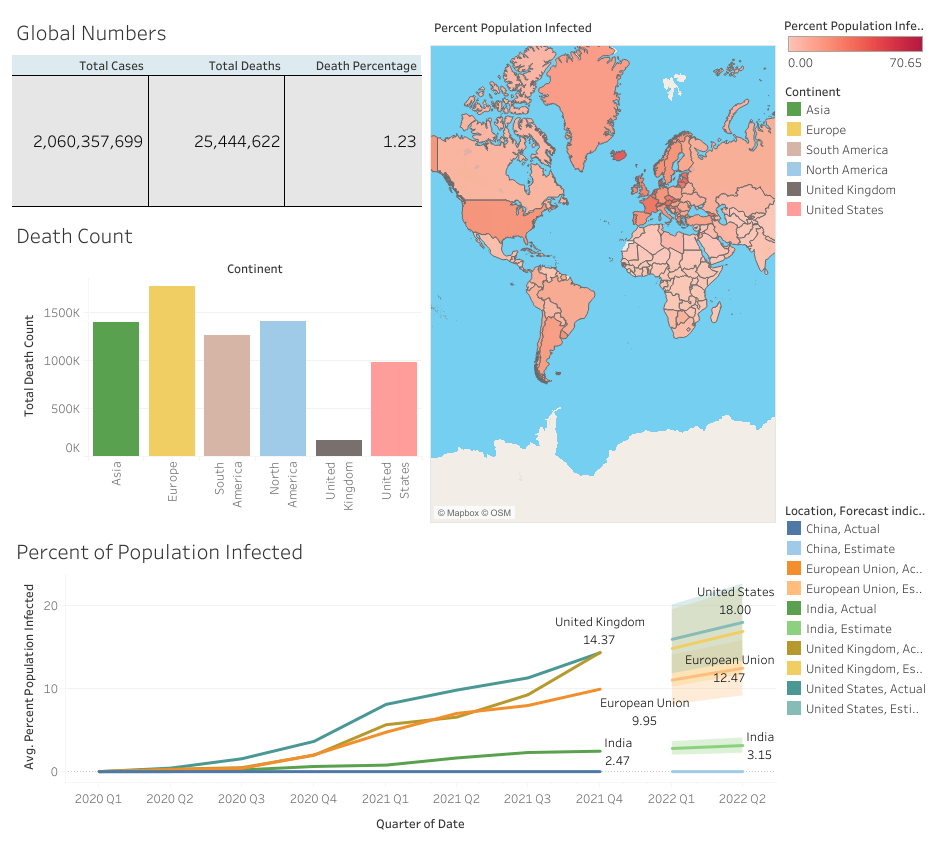

What the dashboard file says about the page in this screenshot:
{"tool":"tableau","page":{"name":"Dashboard 1","canvas":[1000,1000],"units":"permille","ordinal":0},"visuals":[{"type":"worksheet","title":"Global Numbers","mark":"Automatic","box":[7.5,13.7,456.5,236.3]},{"type":"worksheet","title":"Percent Population Infected","mark":"Multipolygon","box":[464,13.7,387.3,604.5]},{"type":"legend","title":"Percent Population Infected","param":"[federated.0fcbsb11o1xzr61a9d8e30gn0m4j].[sum:PercentPopulationInfected:qk]","box":[851.3,13.7,141.2,111.3]},{"type":"legend","title":"Death Count","param":"[federated.0eqgit11qa5z5s1g0ej0e15yebu2].[none:location:nk]","box":[851.3,125,141.2,250]},{"type":"worksheet","title":"Death Count","mark":"Bar","rows":["TotalDeathCount"],"cols":["location"],"box":[7.5,250,456.5,368.2]},{"type":"legend","title":"Percent of Population Infected","param":"[federated.1bn9vcr0p2tiyn106o22i1c3kwqn].[none:location:nk]\n[federated.1bn9vcr0p","box":[851.3,580.5,141.2,405.8]},{"type":"worksheet","title":"Percent of Population Infected","mark":"Line","rows":["PercentPopulationInfected"],"cols":["date"],"box":[7.5,618.1,843.8,368.2]}]}

Visuals, with their boxes on the dashboard's canvas, which has no fixed pixel size, in thousandths of its width and height (x1, y1, x2, y2). These are canvas units, not pixel positions in the 938x850 screenshot, which may show the page scaled, cropped or inside an application window:
"Global Numbers" worksheet: left=8, top=14, right=464, bottom=250
"Percent Population Infected" worksheet (Multipolygon marks): left=464, top=14, right=851, bottom=618
"Percent Population Infected" legend: left=851, top=14, right=992, bottom=125
"Death Count" legend: left=851, top=125, right=992, bottom=375
"Death Count" worksheet (Bar marks): left=8, top=250, right=464, bottom=618
"Percent of Population Infected" legend: left=851, top=580, right=992, bottom=986
"Percent of Population Infected" worksheet (Line marks): left=8, top=618, right=851, bottom=986
